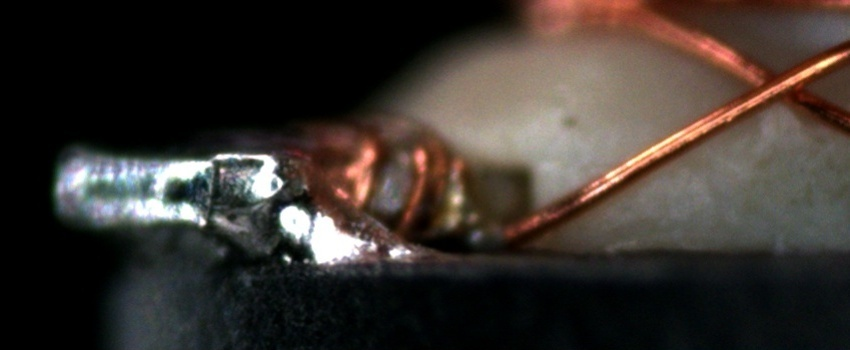CL: (730, 51, 828, 117)
TE: (297, 100, 456, 237)
